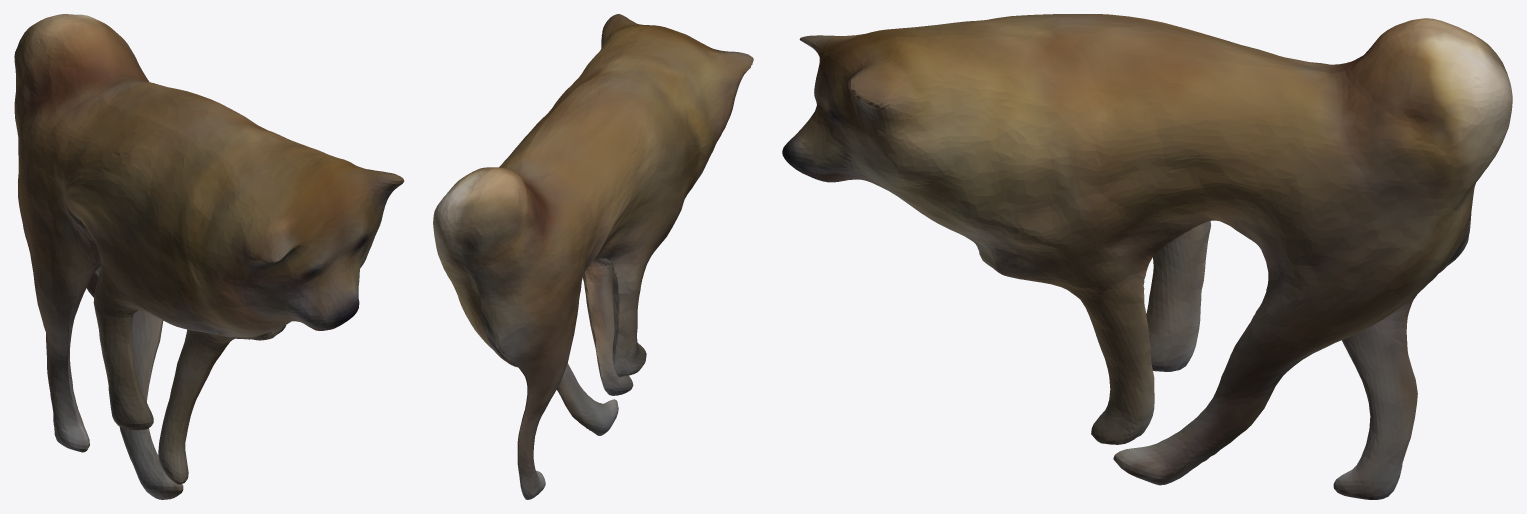
File: shiba-haru-1002-mesh-00017.obj
3 views of the same model, side by side, from view 1: azimuth 30°, elevation 25°; view 2: azimuth 150°, elevation 25°; view 3: azimuth 270°, elevation 25° (orthographic). The views are drawn at different scales.
Size of the model in its own units: 0.0323 by 0.0732 by 0.0977.
